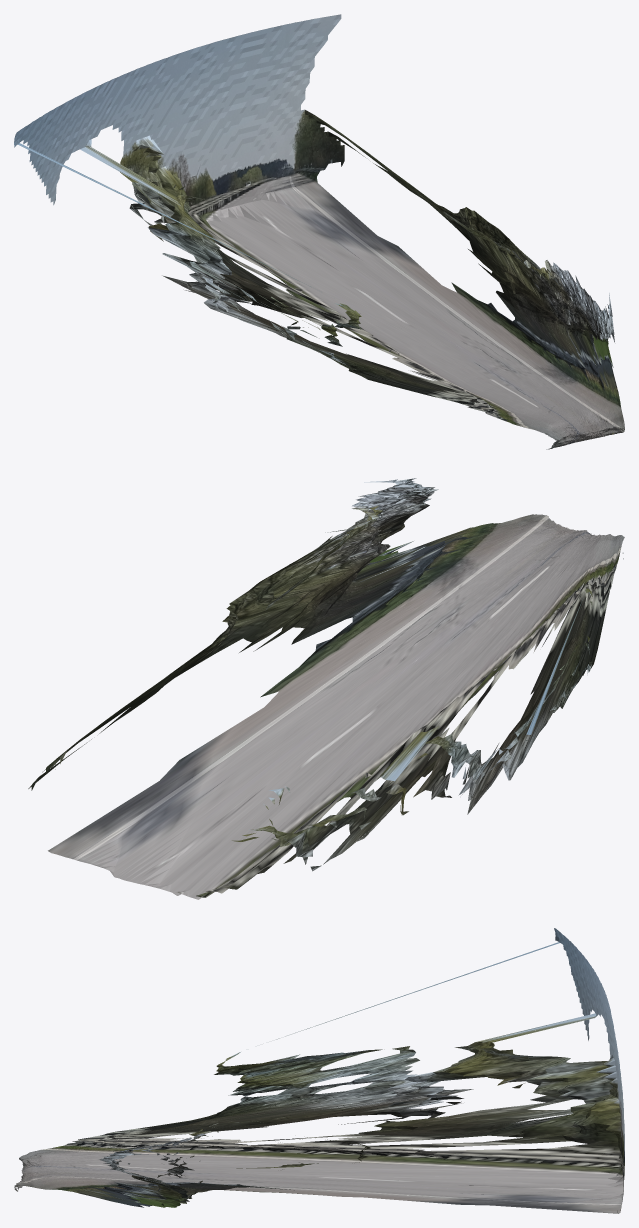
The picture shows the model from 3 angles, top to bottom: view 1: azimuth 30°, elevation 25°; view 2: azimuth 150°, elevation 25°; view 3: azimuth 270°, elevation 25°; orthographic projection. The views are drawn at different scales.
Visible parts, largest first — view 1: defaultobject; view 2: defaultobject; view 3: defaultobject.
Part boxes in pixels (box(x1,y1,x2,y2)): defaultobject: box(14, 14, 624, 449); defaultobject: box(28, 478, 624, 899); defaultobject: box(14, 928, 624, 1213).
Bounding box in the file's own units: 28.19 × 12.83 × 44.55.
Materials: 1 (1 with a texture image).
